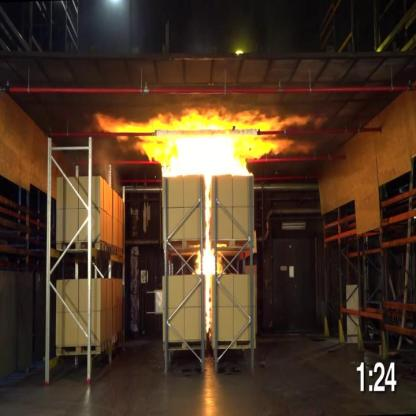fire: (90, 104, 314, 174), (191, 181, 226, 340)
